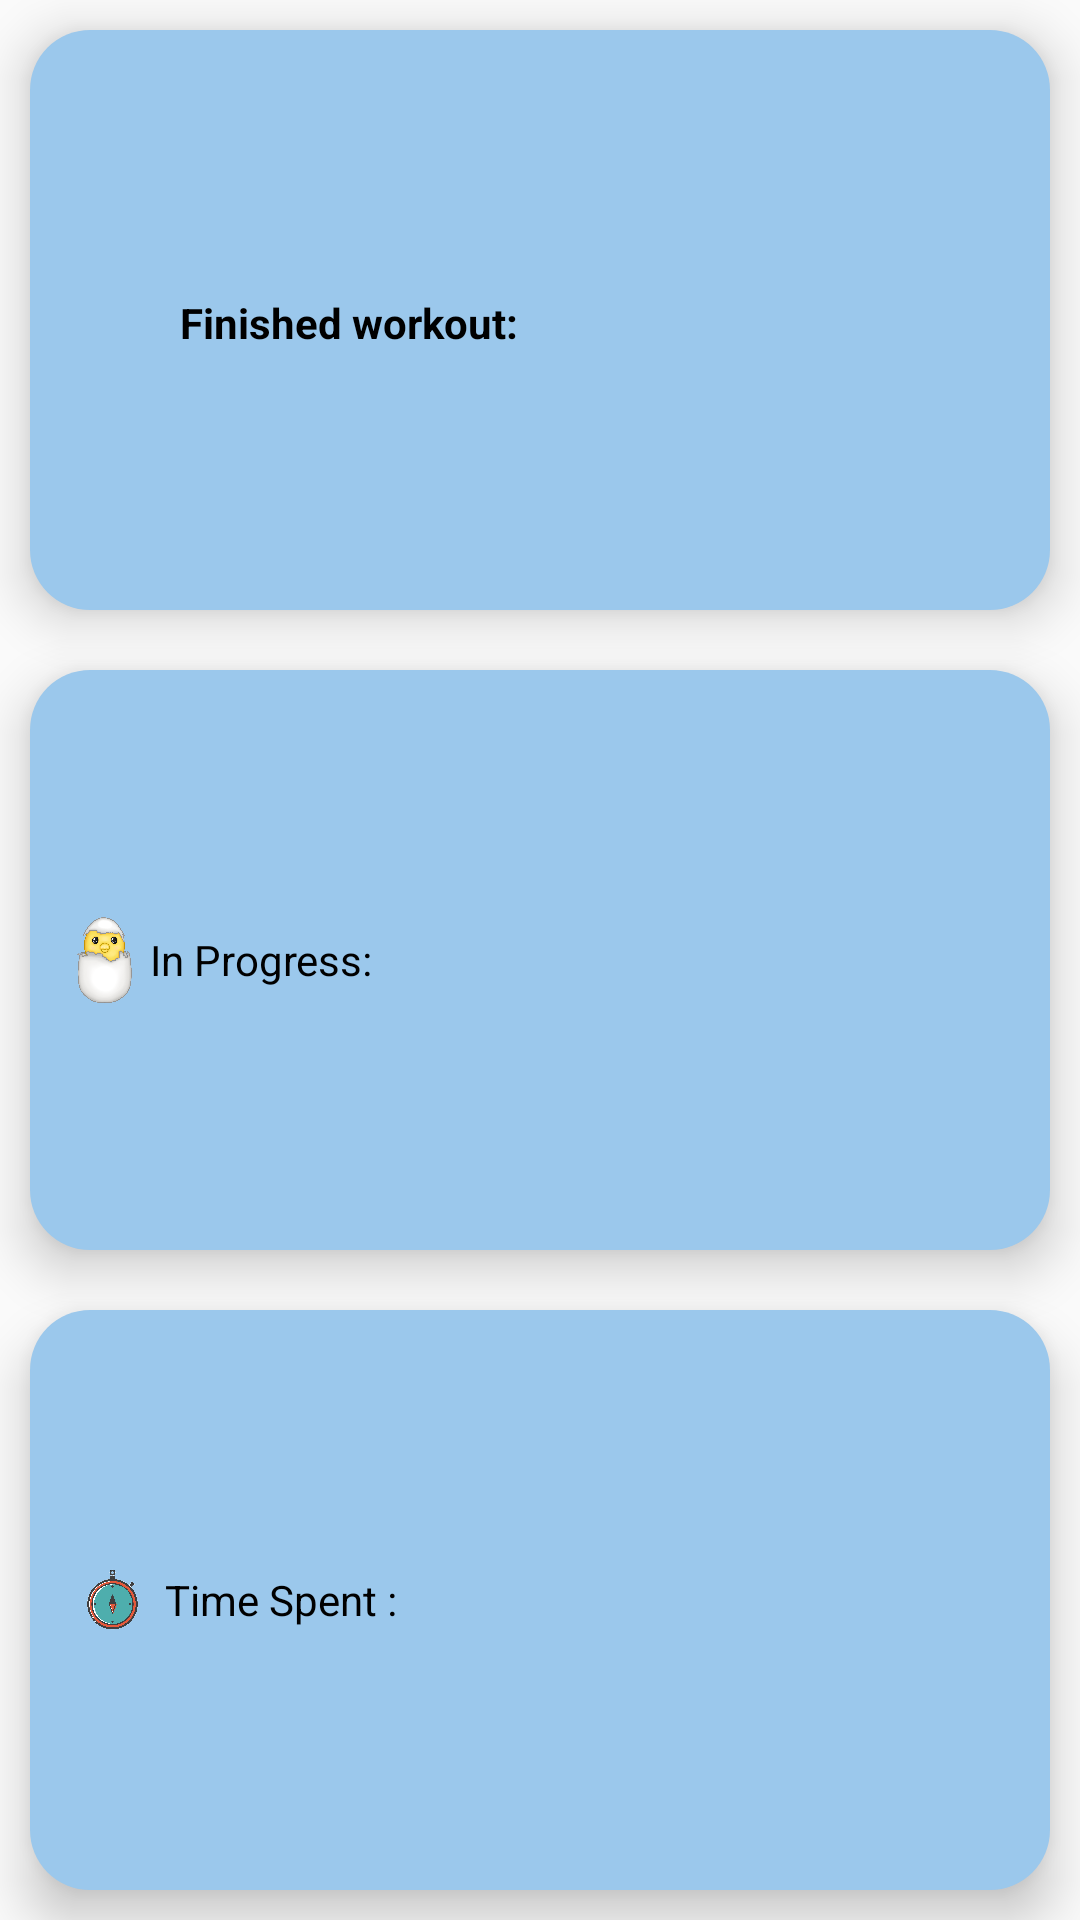

Locate icon controls on the screen. Image size 1080px x 1920px, boxes as (left=x1, top=y1, right=x2, bottom=y2).
chicken: (left=77, top=917, right=132, bottom=1003)
stopwatch: (left=87, top=1570, right=138, bottom=1629)
